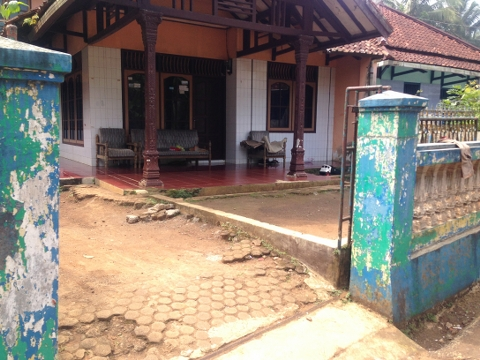kursi: (131, 128, 213, 170), (240, 131, 288, 169), (95, 128, 137, 171)
